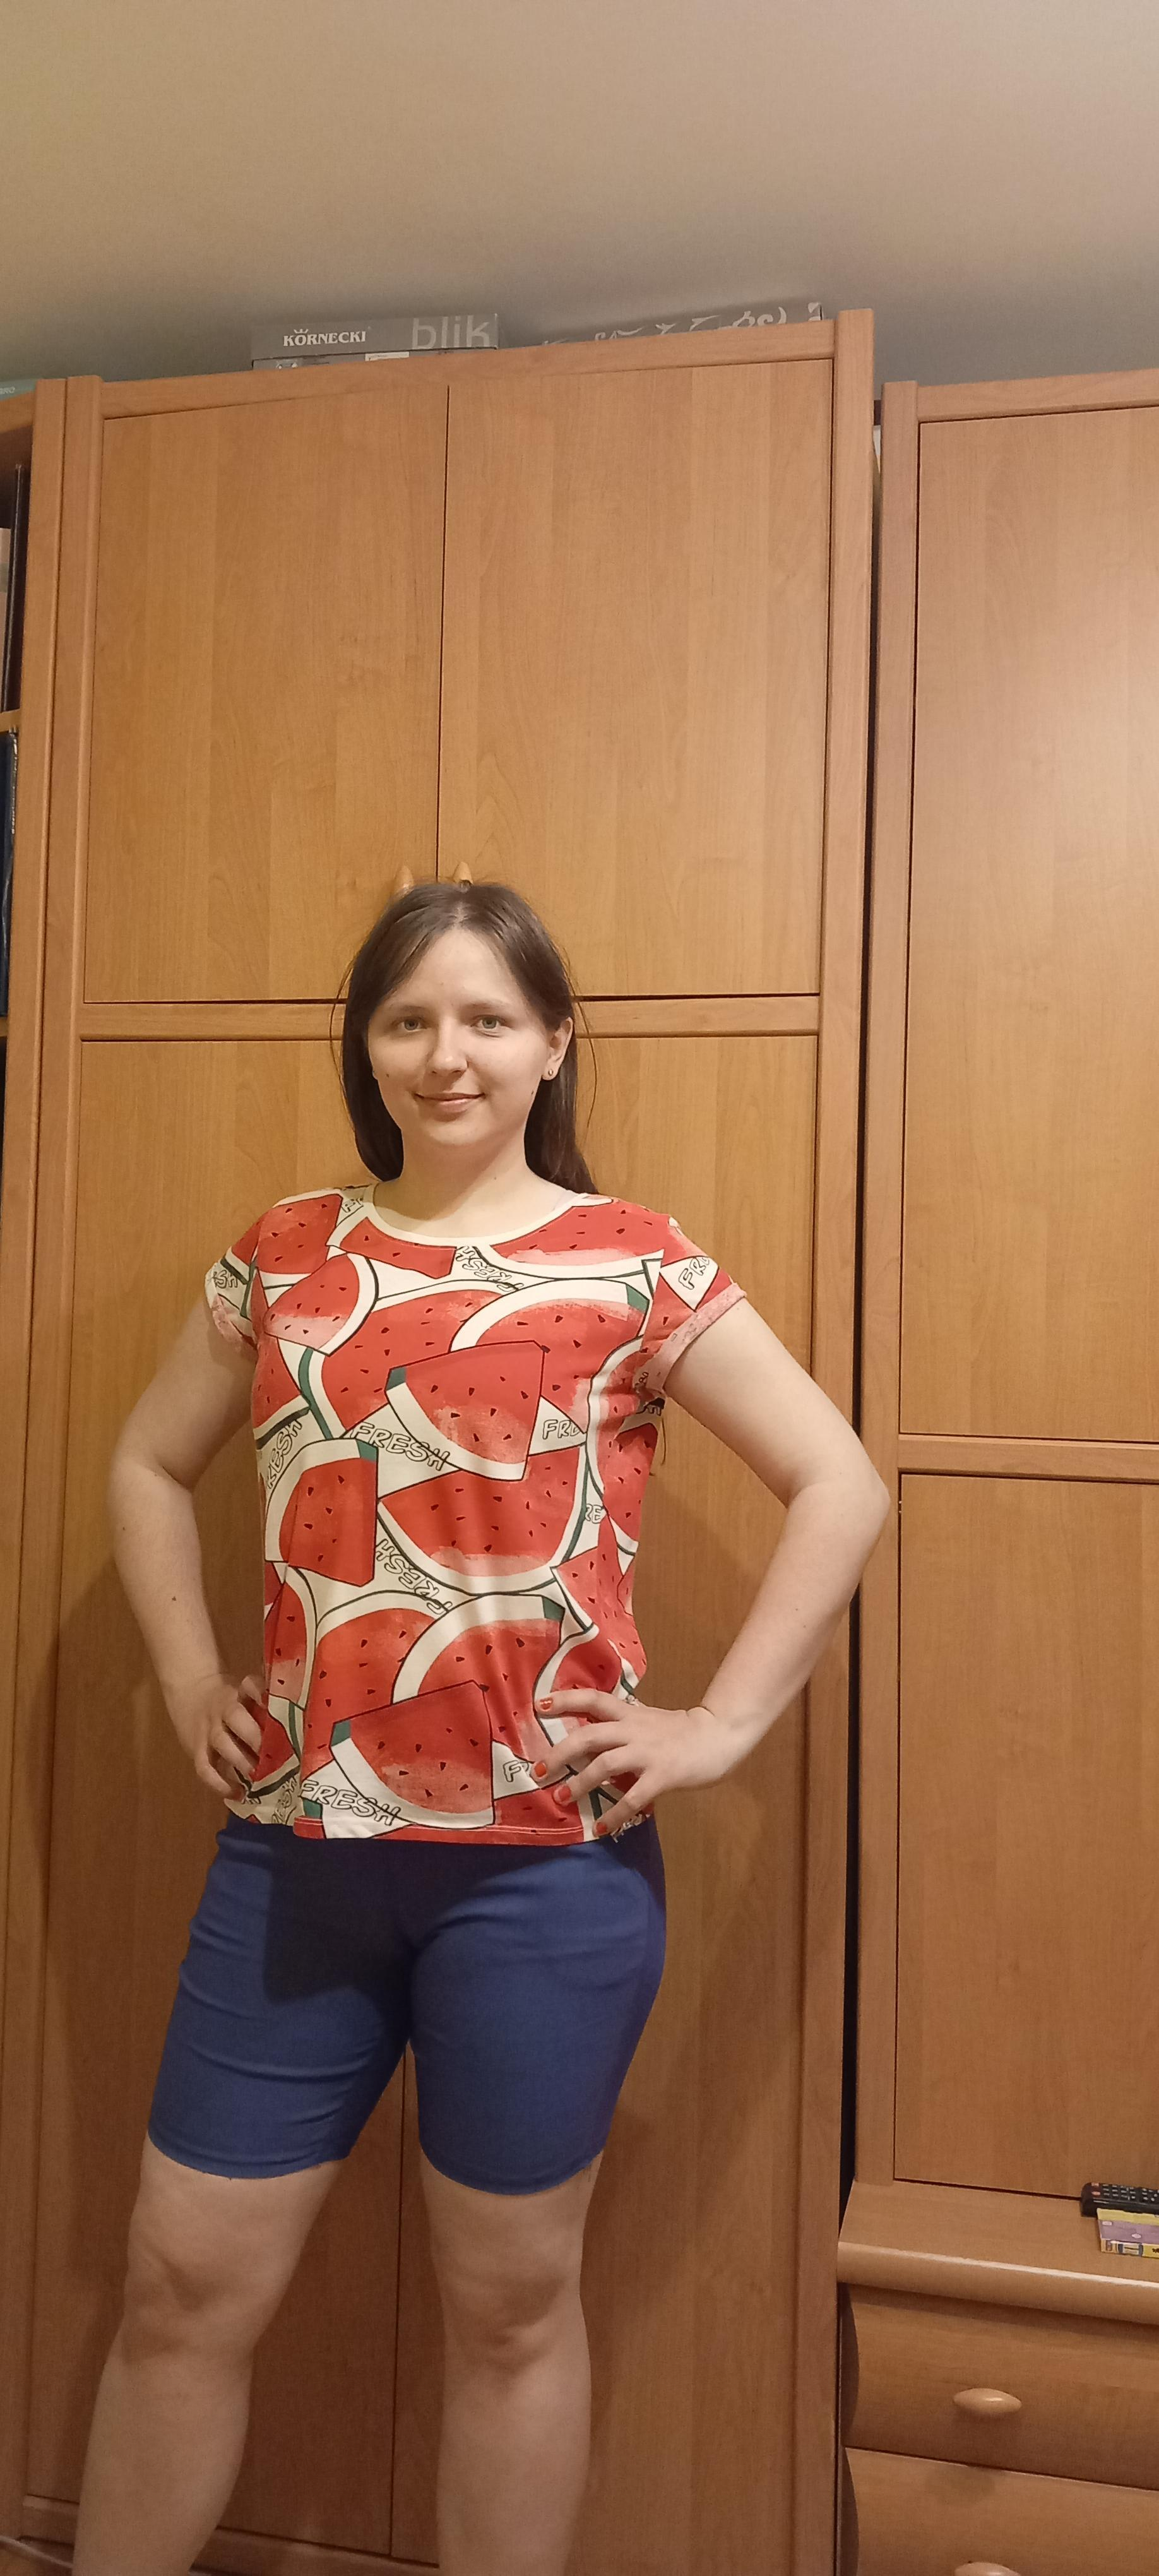Tshirt: (205, 1181, 747, 1845)
short: (149, 1812, 670, 2196)
